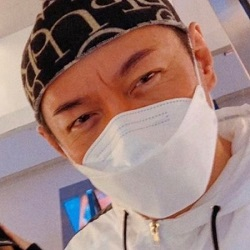mask: (73, 89, 220, 221)
